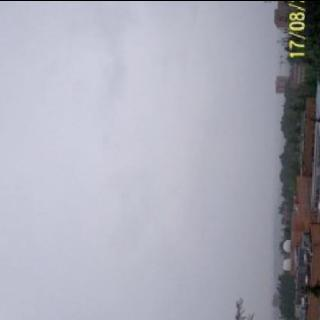Nimbostratus: (0, 0, 258, 317)
